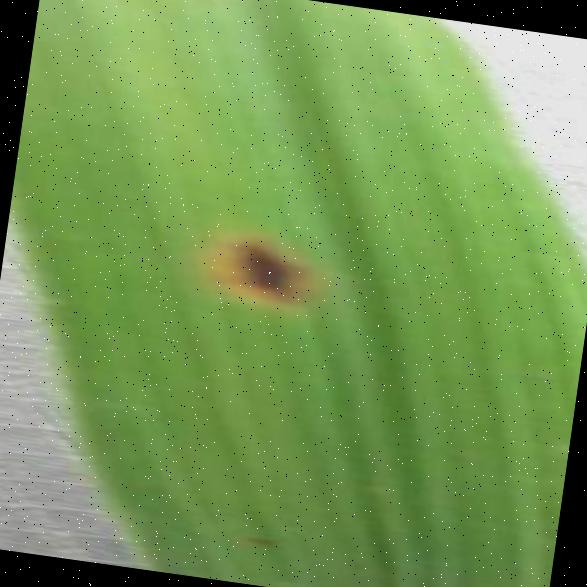Brown_Spot: (196, 208, 333, 324), (231, 518, 289, 562)
